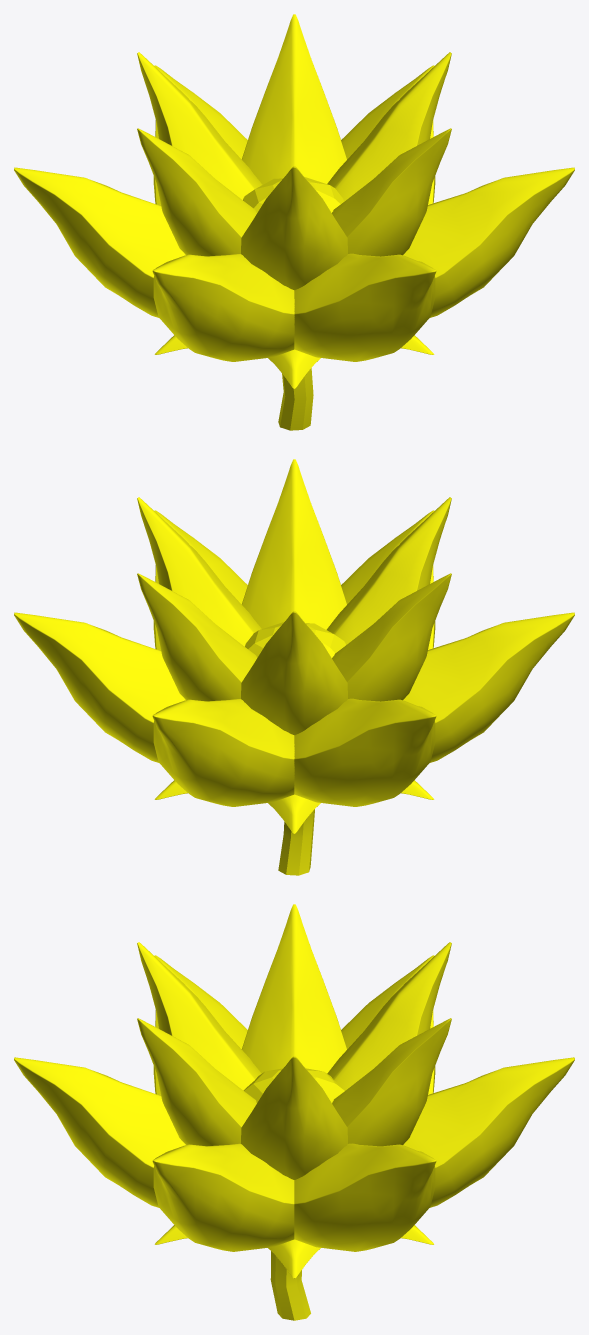
The model's file is 3D_Goal_op.fbx.
3 views of the same model, one above another, from view 1: azimuth 30°, elevation 25°; view 2: azimuth 150°, elevation 25°; view 3: azimuth 270°, elevation 25° (orthographic).
Visible parts, largest first — view 1: Goal_op; view 2: Goal_op; view 3: Goal_op.
Boxes of the visible parts, left/top/right/bottom form: Goal_op: left=14, top=14, right=574, bottom=430; Goal_op: left=14, top=459, right=574, bottom=875; Goal_op: left=14, top=904, right=574, bottom=1320.
Size of the model in its own units: 48.48 by 36.58 by 55.8.
